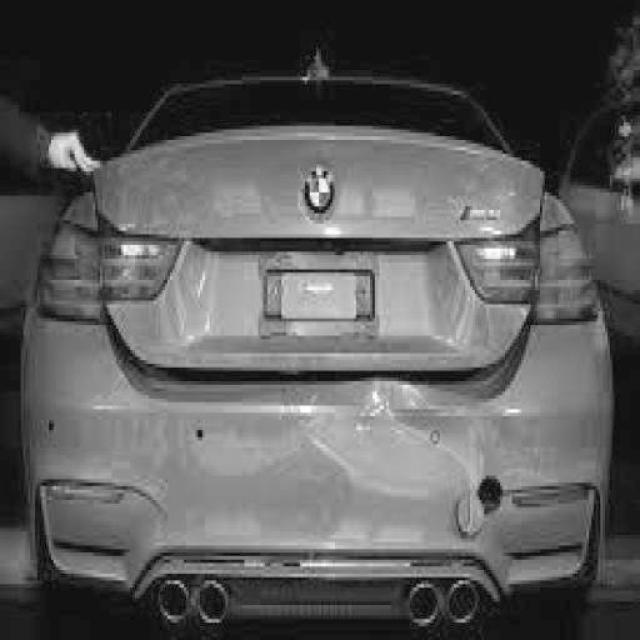car damage: (299, 377, 497, 502)
